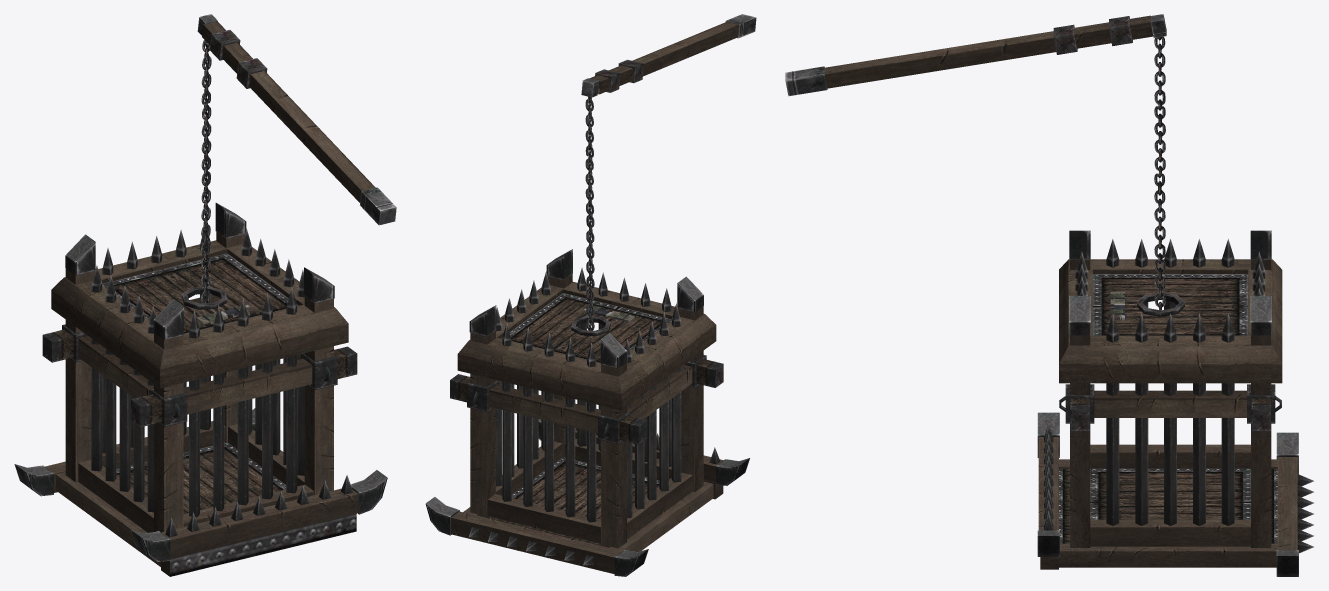
Rendered from s7_wujian_tielongzi.FBX.
The picture shows the model from 3 angles, left to right: view 1: azimuth 30°, elevation 25°; view 2: azimuth 150°, elevation 25°; view 3: azimuth 270°, elevation 25°; orthographic projection. The views are drawn at different scales.
Visible parts, largest first — view 1: s7_wujian_tielongzi; view 2: s7_wujian_tielongzi; view 3: s7_wujian_tielongzi.
Part boxes in pixels (x1,y1,x2,y2): s7_wujian_tielongzi: (14, 14, 396, 576); s7_wujian_tielongzi: (425, 14, 756, 576); s7_wujian_tielongzi: (785, 14, 1313, 576).
Size of the model in its own units: 2.08 by 4.01 by 3.78.
